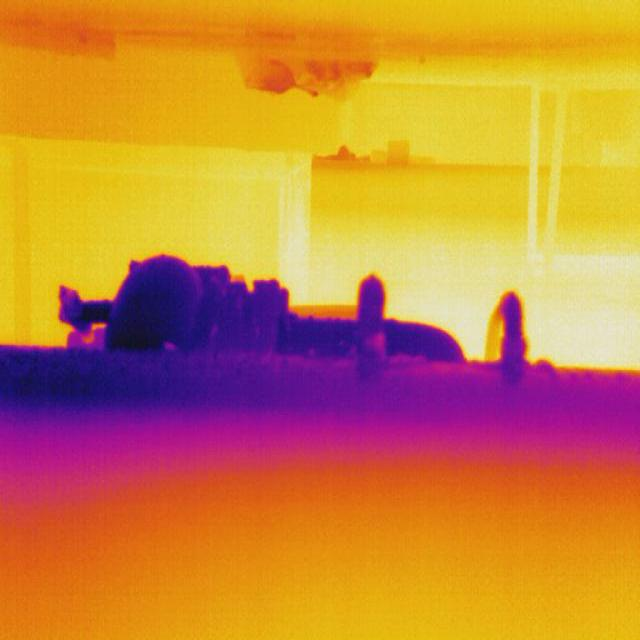leakage: (0, 238, 640, 457)
